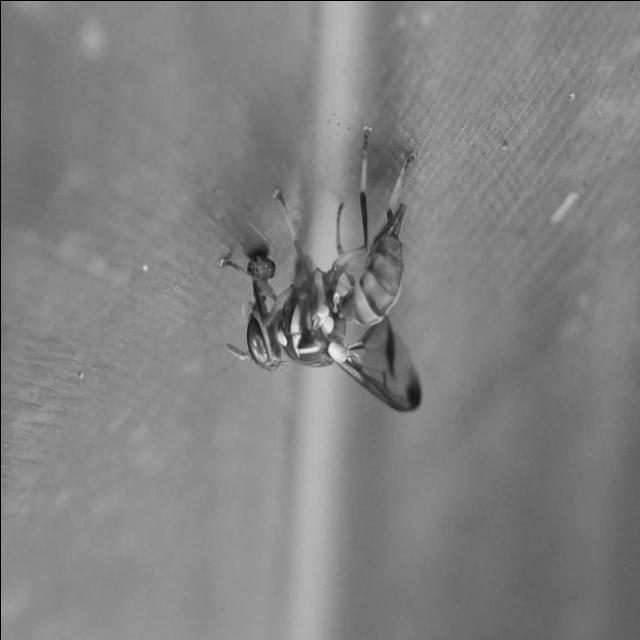Fruit fly: (214, 109, 432, 422)
